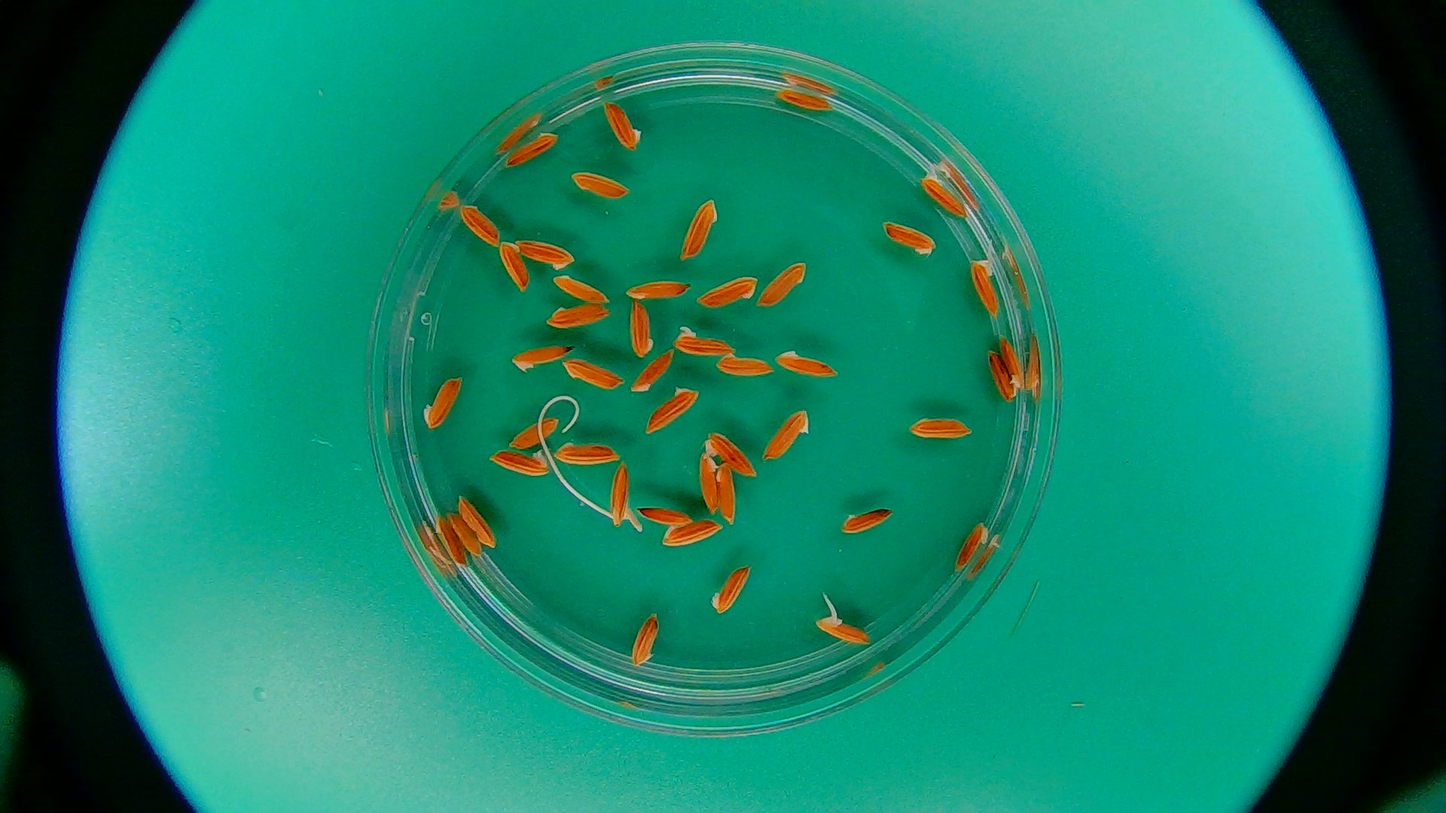no: (645, 384, 700, 434), (763, 409, 813, 462), (679, 197, 718, 261), (500, 131, 558, 174), (508, 340, 577, 376), (420, 375, 462, 431), (631, 348, 676, 397), (458, 494, 498, 549), (600, 99, 642, 151), (514, 236, 573, 272), (484, 446, 551, 477), (697, 275, 758, 309), (760, 262, 807, 306), (711, 565, 752, 615), (554, 440, 624, 468), (457, 202, 501, 245), (907, 416, 976, 443), (562, 358, 624, 388), (883, 220, 936, 254), (571, 169, 630, 199), (509, 416, 558, 450), (775, 349, 834, 377), (551, 274, 609, 302), (955, 520, 987, 570), (775, 87, 834, 114), (987, 350, 1017, 403), (547, 303, 608, 329), (631, 612, 659, 667), (624, 278, 690, 301), (695, 449, 718, 515), (432, 516, 462, 565), (1001, 336, 1029, 388), (500, 242, 529, 292), (715, 352, 773, 377), (841, 506, 892, 534), (447, 511, 479, 555), (715, 463, 737, 525), (630, 302, 654, 358), (663, 523, 720, 546), (637, 505, 693, 524)
yes: (813, 592, 874, 646), (700, 428, 758, 483), (594, 464, 639, 533), (912, 160, 967, 216), (967, 238, 1002, 315), (673, 326, 737, 358)
